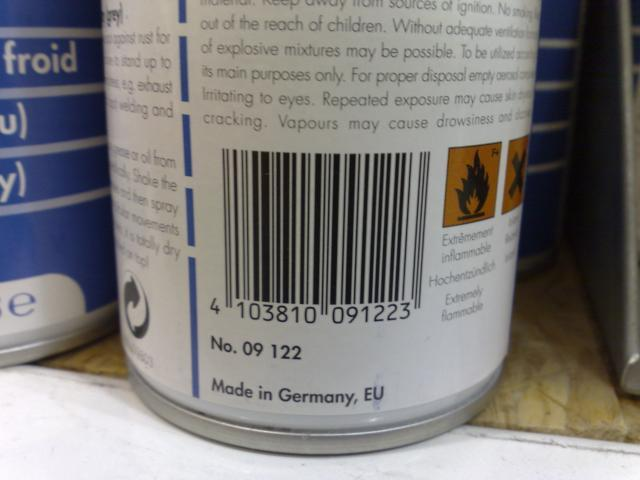Barcode: (205, 144, 434, 330)
